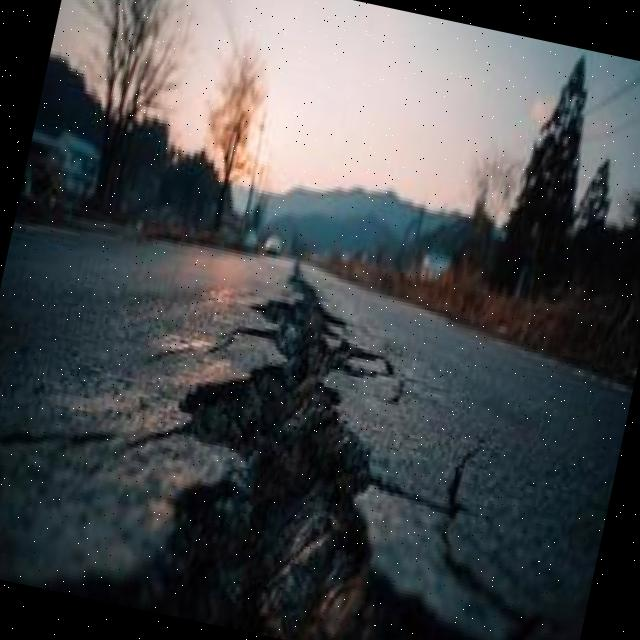road collapse: (0, 38, 593, 640)
